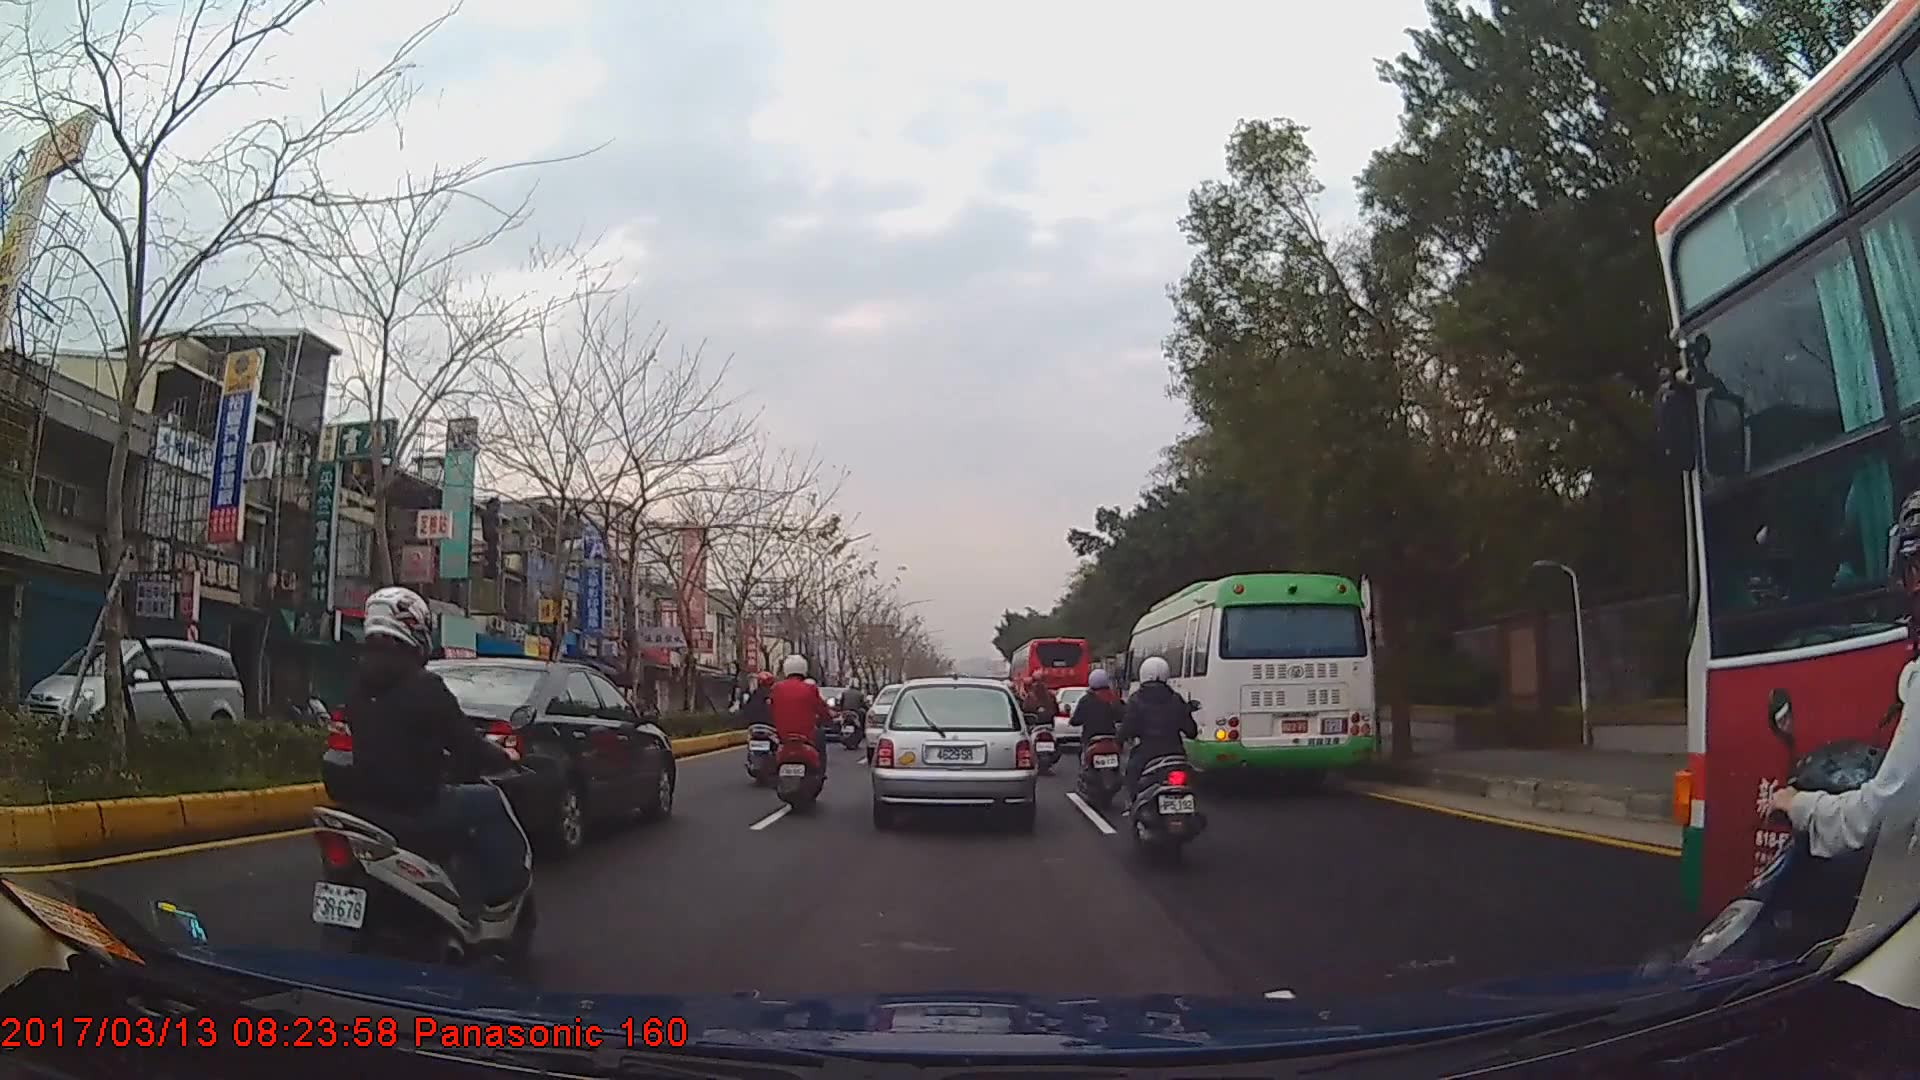rider: (1681, 491, 1920, 1021), (316, 587, 536, 995), (1123, 655, 1212, 864), (765, 652, 827, 817), (1068, 666, 1131, 812), (742, 669, 788, 787), (1020, 670, 1062, 777), (837, 678, 871, 751)
vehicle: (1657, 0, 1919, 1011), (318, 656, 674, 853), (1121, 571, 1379, 792), (13, 636, 250, 756), (871, 676, 1034, 826), (1009, 634, 1093, 730)
